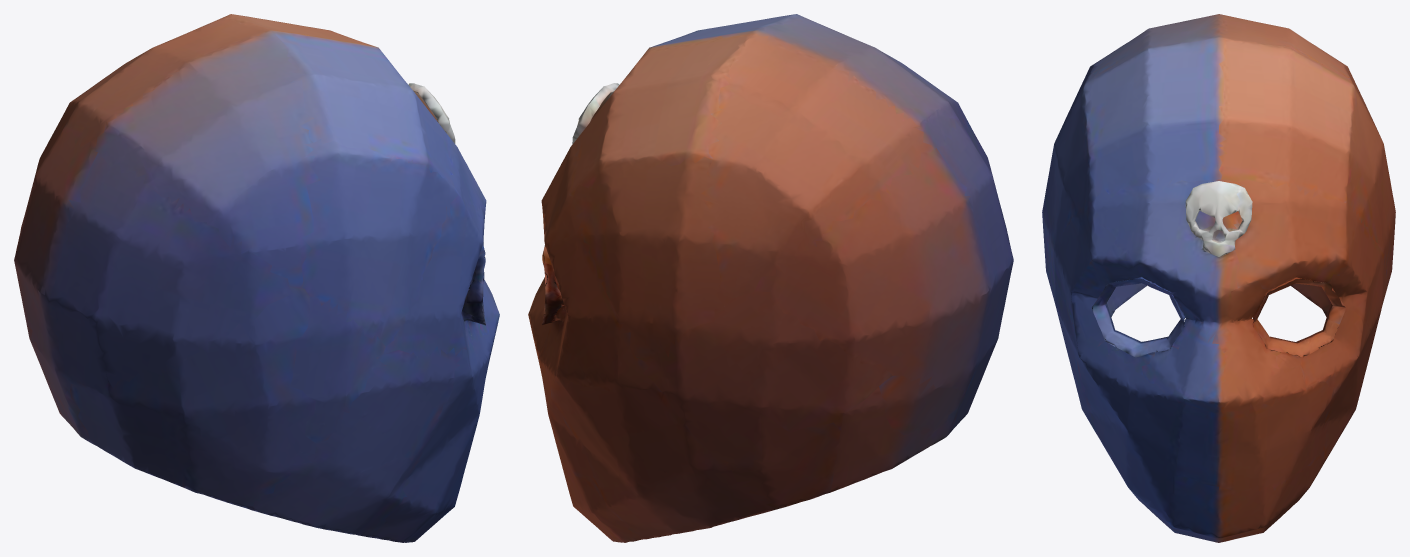
Rendered from mascara_caveira.glb.
3 renders of one model, left to right at view 1: azimuth 30°, elevation 25°; view 2: azimuth 150°, elevation 25°; view 3: azimuth 270°, elevation 25°, orthographic. The views are drawn at different scales.
Visible parts, largest first — view 1: tripo_node_3c86dccd-cdd1-421a-96af-ac72f34b610a; view 2: tripo_node_3c86dccd-cdd1-421a-96af-ac72f34b610a; view 3: tripo_node_3c86dccd-cdd1-421a-96af-ac72f34b610a.
Boxes of the visible parts, x1,y1,x2,y2 form: tripo_node_3c86dccd-cdd1-421a-96af-ac72f34b610a: (14,14,499,542); tripo_node_3c86dccd-cdd1-421a-96af-ac72f34b610a: (528,14,1013,542); tripo_node_3c86dccd-cdd1-421a-96af-ac72f34b610a: (1042,14,1395,542).
Size of the model in its own units: 0.8964 by 1 by 0.7092.
Materials: 1 (1 with a texture image).
